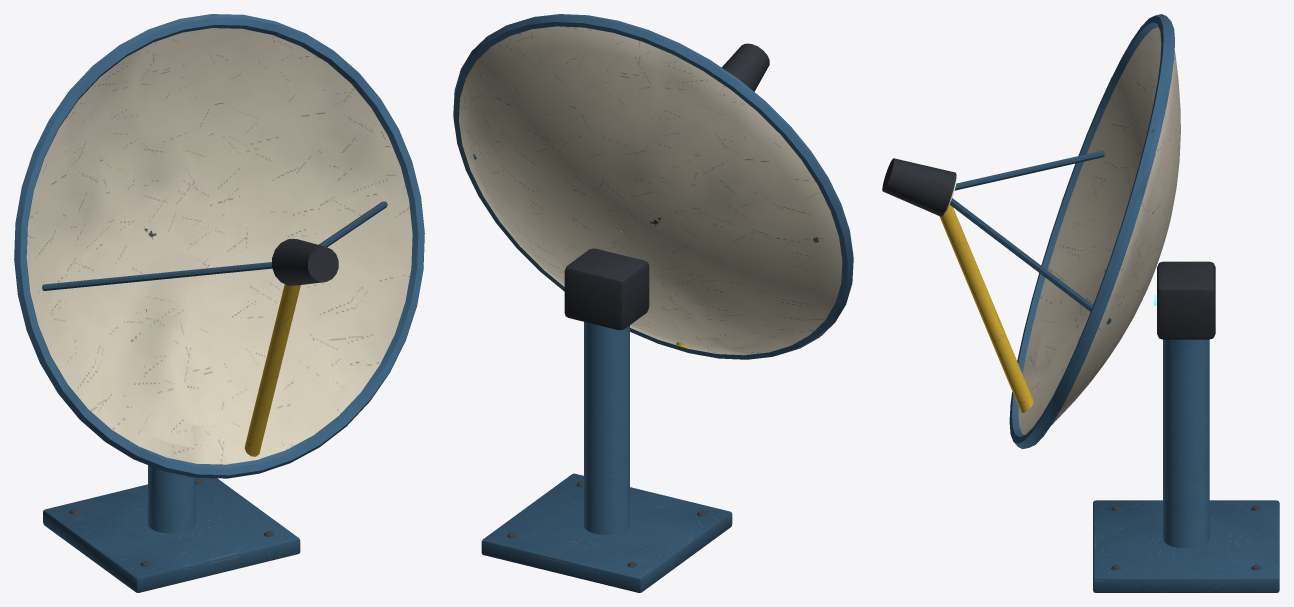
Rendered from reflector_dish.glb.
The picture shows the model from 3 angles, left to right: view 1: azimuth 30°, elevation 25°; view 2: azimuth 150°, elevation 25°; view 3: azimuth 270°, elevation 25°; orthographic projection. The views are drawn at different scales.
Parts seen in each view (by area): view 1: ReflectorDishBody; view 2: ReflectorDishBody; view 3: ReflectorDishBody.
Boxes of the visible parts, x1,y1,x2,y2 form: ReflectorDishBody: (14, 14, 424, 592); ReflectorDishBody: (453, 14, 853, 592); ReflectorDishBody: (882, 14, 1279, 592).
Size of the model in its own units: 0.784 by 0.9787 by 0.6807.
Materials: 8 (6 with a texture image).
